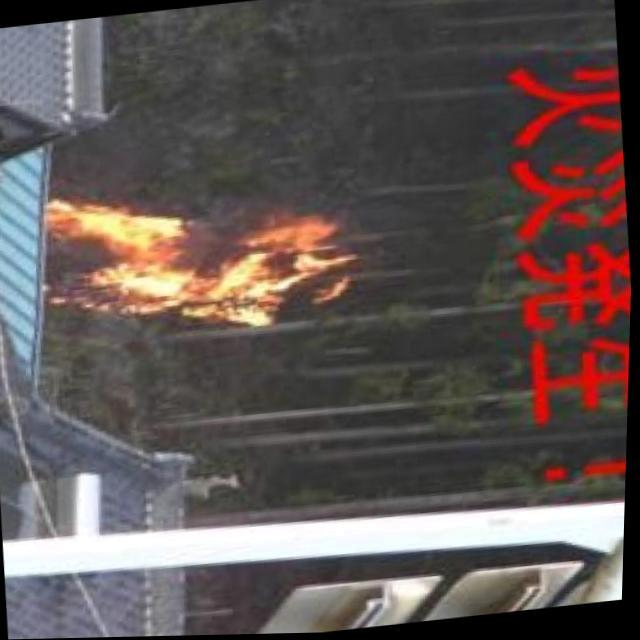fire: (35, 165, 352, 358)
